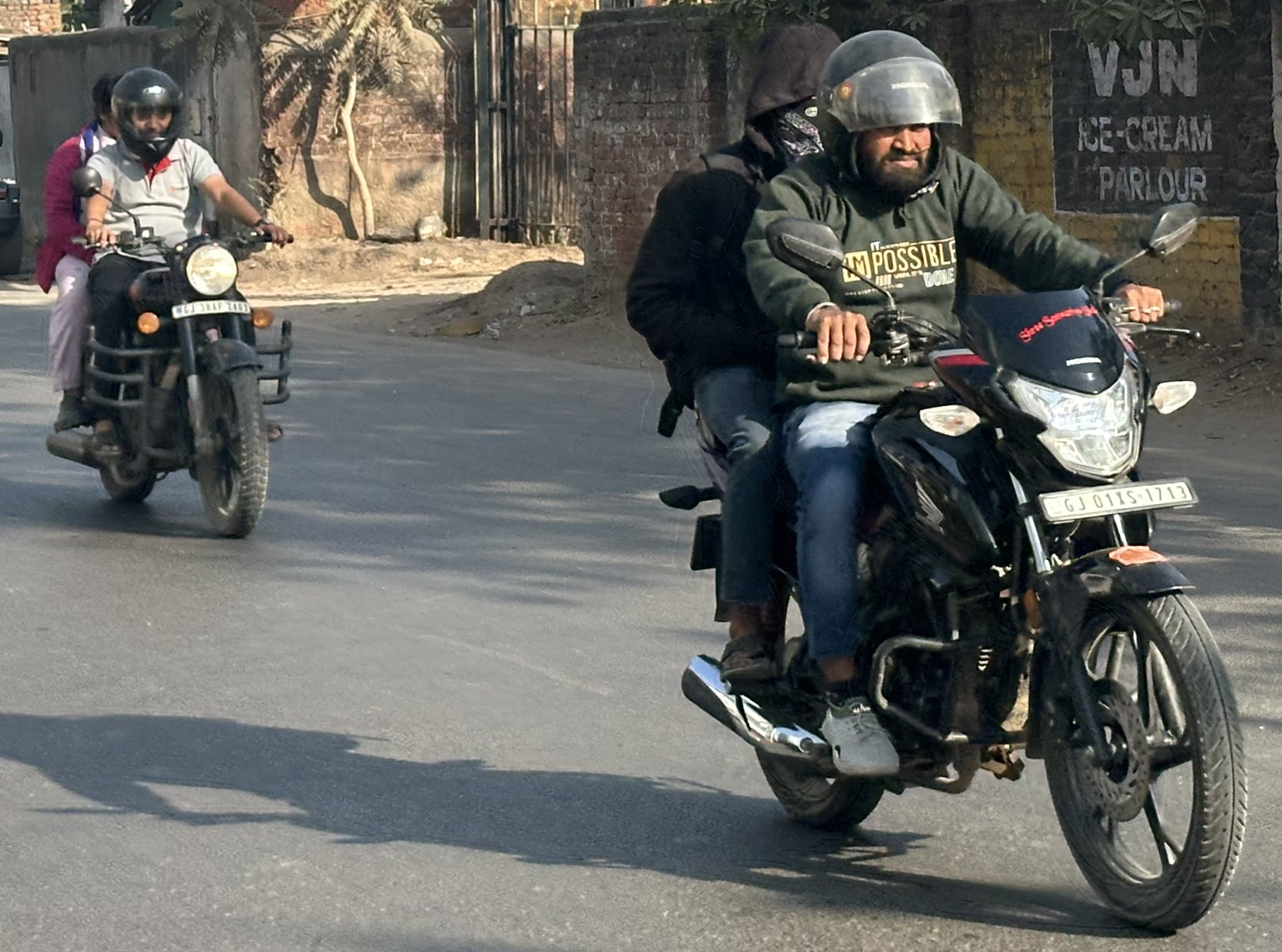BikeWithRider: (612, 11, 1262, 943), (26, 56, 309, 547)
Helmet: (805, 22, 979, 206), (100, 59, 196, 163)
NoHelmet: (721, 13, 858, 178), (82, 61, 136, 142)
